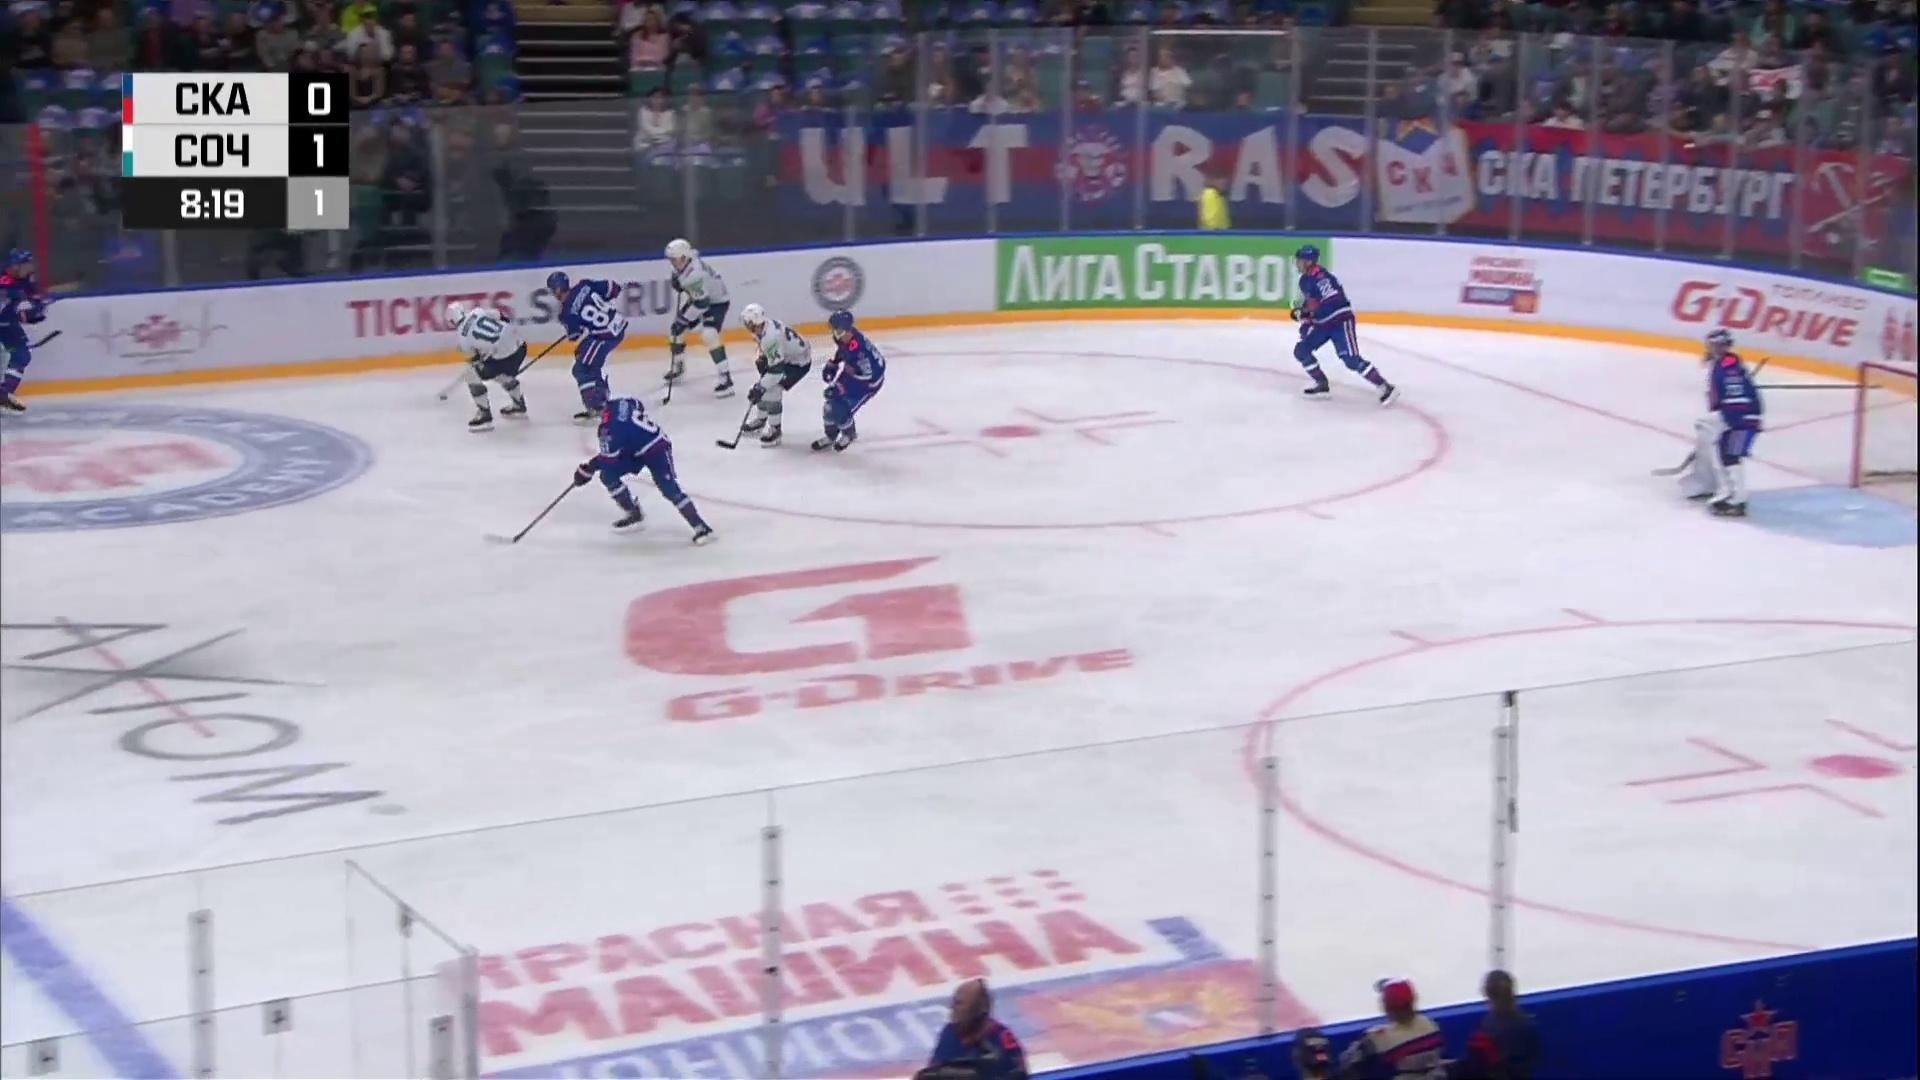ball: (439, 394, 448, 401)
